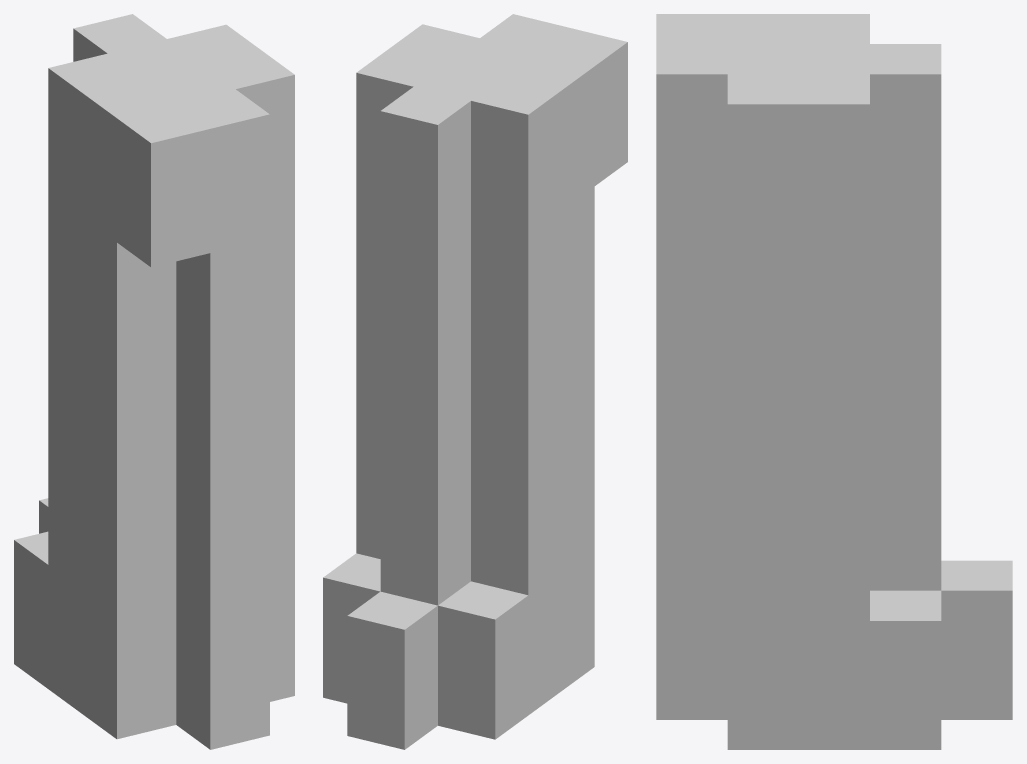
File: Bernard_Leg_Front_Left_Lower.obj
3 renders of one model, left to right at view 1: azimuth 30°, elevation 25°; view 2: azimuth 150°, elevation 25°; view 3: azimuth 270°, elevation 25°, orthographic. The views are drawn at different scales.
Visible parts, largest first — view 1: Bernard; view 2: Bernard; view 3: Bernard.
Boxes of the visible parts, x1,y1,x2,y2 form: Bernard: (14,14,294,749); Bernard: (323,14,627,749); Bernard: (656,14,1012,749).
Bounding box in the file's own units: 0.3 × 1 × 0.5.
Materials: 1 (1 with a texture image).
